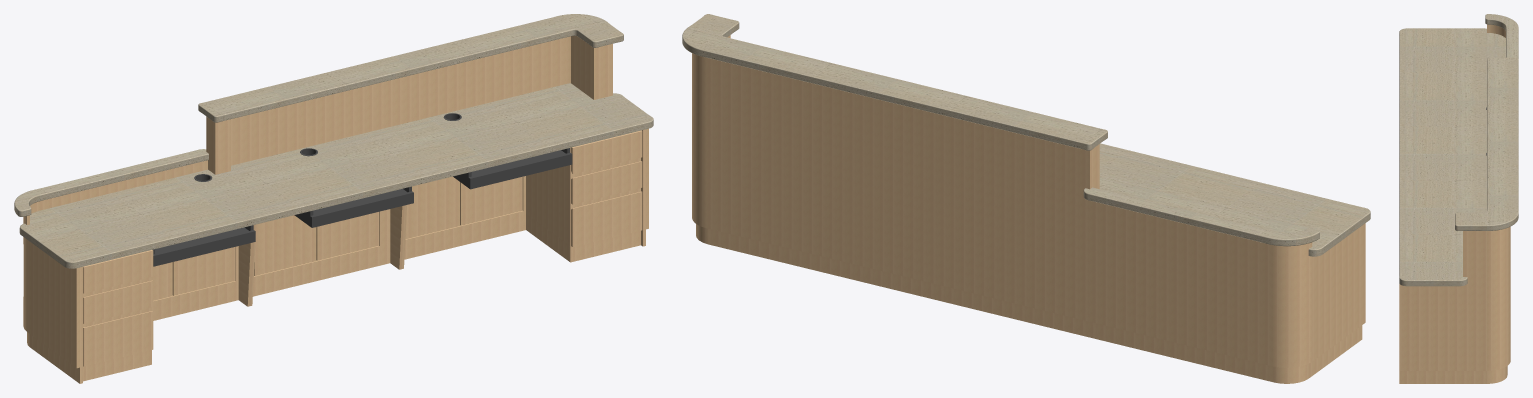
File: NCTR-08A-A.FBX
3 views of the same model, side by side, from view 1: azimuth 30°, elevation 25°; view 2: azimuth 150°, elevation 25°; view 3: azimuth 270°, elevation 25° (orthographic). The views are drawn at different scales.
Visible parts, largest first — view 1: Joined Solid Geometry [8869918], Joined Solid Geometry [8859526], CSW_Sunray_pedestal pedestal [8859378], Joined Solid Geometry [8869598], CSW_Sunray_pedestal pedestal [8859377], Joined Solid Geometry [8859361], CSW_Sunray_Cabinet_Magnetic-Door_Sgl Door_Sgl [8868059], Joined Solid Geometry [8869815], CSW_Sunray_Cabinet_Magnetic-Door_Sgl Door_Sgl [8868076], CSW_Sunray_Cabinet_Magnetic-Door_Sgl Door_Sgl [8860166], CSW_Sunray_Cabinet_Magnetic-Door_Sgl Door_Sgl [8860164], CSW_Sunray_Cabinet_Magnetic-Door_Sgl Door_Sgl [8860165] (+7 smaller); view 2: Joined Solid Geometry [8859526], Joined Solid Geometry [8869918], Joined Solid Geometry [8869598], CSW_Sunray_Counter_Carcass CSW_Sunray_Counter_Carcass [88593, Joined Solid Geometry [8869815]; view 3: Joined Solid Geometry [8869918], Joined Solid Geometry [8859526], Joined Solid Geometry [8869598], CSW_Sunray_Counter_Carcass CSW_Sunray_Counter_Carcass [88593, Joined Solid Geometry [8869815].
Part boxes in pixels (x1,y1,x2,y2): Joined Solid Geometry [8869918]: [19, 83, 653, 268]; Joined Solid Geometry [8859526]: [23, 35, 648, 368]; CSW_Sunray_pedestal pedestal [8859378]: [526, 130, 642, 262]; Joined Solid Geometry [8869598]: [198, 14, 623, 122]; CSW_Sunray_pedestal pedestal [8859377]: [83, 250, 153, 381]; Joined Solid Geometry [8859361]: [152, 176, 525, 320]; CSW_Sunray_Cabinet_Magnetic-Door_Sgl Door_Sgl [8868059]: [254, 215, 316, 275]; Joined Solid Geometry [8869815]: [14, 149, 208, 216]; CSW_Sunray_Cabinet_Magnetic-Door_Sgl Door_Sgl [8868076]: [405, 176, 459, 239]; CSW_Sunray_Cabinet_Magnetic-Door_Sgl Door_Sgl [8860166]: [460, 176, 522, 225]; CSW_Sunray_Cabinet_Magnetic-Door_Sgl Door_Sgl [8860164]: [172, 247, 235, 295]; CSW_Sunray_Cabinet_Magnetic-Door_Sgl Door_Sgl [8860165]: [316, 212, 378, 260]; Joined Solid Geometry [8859526]: [692, 35, 1365, 367]; Joined Solid Geometry [8869918]: [1099, 143, 1370, 256]; Joined Solid Geometry [8869598]: [682, 14, 1107, 150]; CSW_Sunray_Counter_Carcass CSW_Sunray_Counter_Carcass [88593: [696, 224, 1362, 383]; Joined Solid Geometry [8869815]: [1083, 187, 1319, 246]; Joined Solid Geometry [8869918]: [1399, 28, 1505, 286]; Joined Solid Geometry [8859526]: [1399, 24, 1510, 370]; Joined Solid Geometry [8869598]: [1455, 57, 1518, 230]; CSW_Sunray_Counter_Carcass CSW_Sunray_Counter_Carcass [88593: [1399, 366, 1507, 383]; Joined Solid Geometry [8869815]: [1485, 14, 1518, 58].
Bounding box in the file's own units: 148 × 44.49 × 29.53.
Materials: 4 (3 with a texture image).
